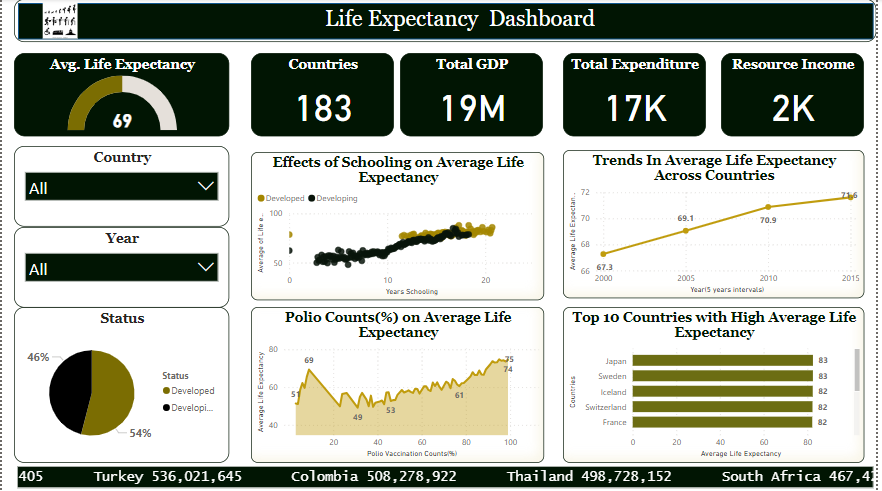

This screenshot's page, from the dashboard's own definition file:
{"tool":"powerbi","page":{"name":"Dashboard","canvas":[1280,720],"ordinal":6},"visuals":[{"type":"shape","box":[18.3,0,1261.7,63],"z":0},{"type":"textbox","box":[363.7,6.1,611.6,56.9],"z":1000},{"type":"pieChart","title":"Status","fields":{"Category":["Life Expentency.Status"],"Y":["Avg(Life Expentency.Life expectancy)"]},"box":[18.3,451,314.9,227.6],"z":2000},{"type":"gauge","title":"Avg. Life Expectancy","fields":{"Y":["Life Expectancy Measures.Average Life Expectancy"]},"box":[18.3,79.2,314.9,121.9],"z":3000},{"type":"ScrollingTextVisual1448795304508","fields":{"Measure Absolute":["Sum(Life Expentency.Population)"],"Category":["Life Expentency.Country"]},"box":[18.3,678.6,1261.7,40.6],"z":4000},{"type":"card","title":"Countries","fields":{"Values":["Count(Life Expentency.Country)"]},"box":[363.7,79.2,209.3,121.9],"z":5000},{"type":"card","title":"Total GDP","fields":{"Values":["Life Expectancy Measures.Total GDP"]},"box":[583.1,79.2,209.3,121.9],"z":6000},{"type":"card","title":"Resource Income","fields":{"Values":["Life Expectancy Measures.Income On Resources"]},"box":[1052.4,79.2,209.3,121.9],"z":7000},{"type":"card","title":"Total Expenditure","fields":{"Values":["Life Expectancy Measures.Total Expenditure"]},"box":[820.8,79.2,209.3,121.9],"z":8000},{"type":"lineChart","title":"Trends In Average Life Expectancy Across Countries","fields":{"Y":["Life Expectancy Measures.Average Life Expectancy"],"Category":["Life Expentency.Year (bins)"]},"box":[820.8,221.5,440.9,217.4],"z":9000},{"type":"slicer","title":"Country","fields":{"Values":["Life Expentency.Country"]},"box":[18.3,215.4,314.9,117.8],"z":10000},{"type":"slicer","title":"Year","fields":{"Values":["Life Expentency.Year"]},"box":[18.3,333.2,314.9,117.8],"z":11000},{"type":"scatterChart","title":"Effects of Schooling on Average Life Expectancy ","fields":{"Y":["Avg(Life Expentency.Life expectancy)"],"X":["Life Expentency.Schooling"],"Series":["Life Expentency.Status"]},"box":[363.7,223.5,428.7,217.4],"z":12000},{"type":"areaChart","title":"Polio Counts(%) on Average Life Expectancy ","fields":{"Y":["Life Expectancy Measures.Average Life Expectancy"],"Category":["Life Expentency.Polio"]},"box":[363.7,451,428.7,227.6],"z":13000},{"type":"clusteredBarChart","title":"Top 10 Countries with High Average Life Expectancy","fields":{"Category":["Life Expentency.Country"],"Y":["Life Expectancy Measures.Average Life Expectancy"]},"box":[820.8,451,440.9,227.6],"z":14000},{"type":"image","box":[17.6,0,134.6,62.9],"z":15000}]}

Visuals, with their boxes in screenshot pixels (x1, y1, x2, y2), scaled from the page's 1280x720 canvas onto the 882x491 screenshot:
shape: region(13, 0, 881, 43)
textbox: region(251, 4, 672, 43)
"Status" pieChart: region(13, 308, 230, 463)
"Avg. Life Expectancy" gauge: region(13, 54, 230, 137)
ScrollingTextVisual1448795304508 - Sum(Life Expentency.Population) x Life Expentency.Country: region(13, 463, 881, 490)
"Countries" card: region(251, 54, 395, 137)
"Total GDP" card: region(402, 54, 546, 137)
"Resource Income" card: region(725, 54, 869, 137)
"Total Expenditure" card: region(566, 54, 710, 137)
"Trends In Average Life Expectancy Across Countries" lineChart: region(566, 151, 869, 299)
"Country" slicer: region(13, 147, 230, 227)
"Year" slicer: region(13, 227, 230, 308)
"Effects of Schooling on Average Life Expectancy " scatterChart: region(251, 152, 546, 301)
"Polio Counts(%) on Average Life Expectancy " areaChart: region(251, 308, 546, 463)
"Top 10 Countries with High Average Life Expectancy" clusteredBarChart: region(566, 308, 869, 463)
image: region(12, 0, 105, 43)
